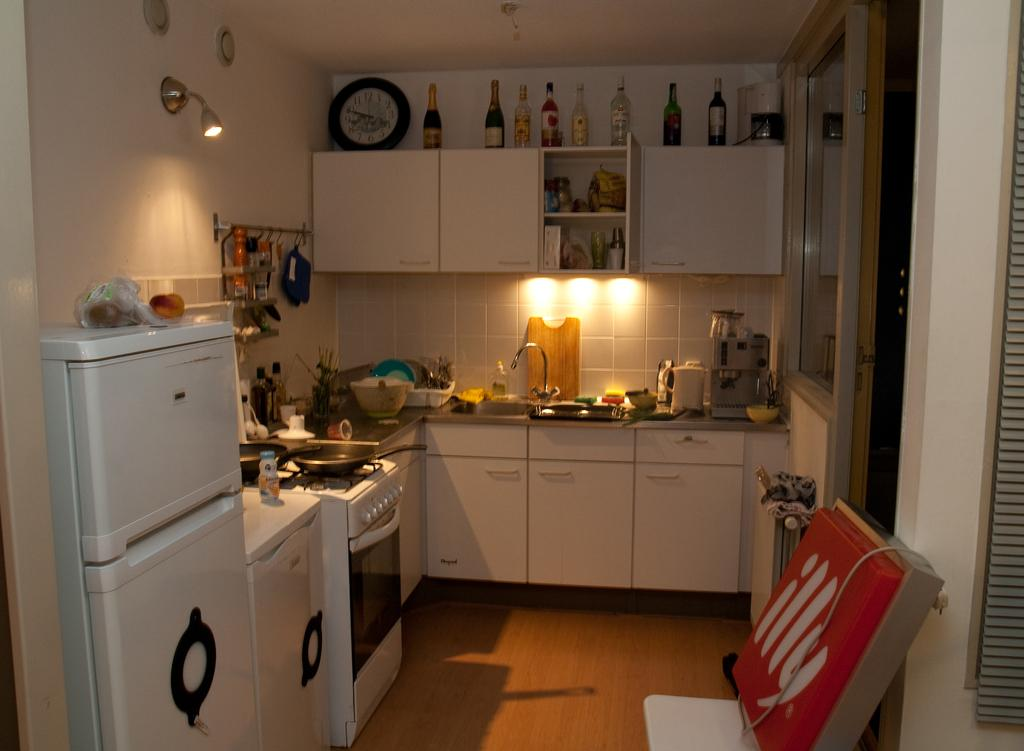cabinet_door: (643, 156, 779, 270), (316, 156, 440, 270), (638, 462, 744, 588), (423, 460, 529, 585), (532, 462, 635, 589), (440, 156, 537, 262)
handle: (113, 483, 241, 548), (646, 467, 684, 489), (398, 255, 434, 274), (650, 253, 688, 270), (540, 468, 577, 484), (482, 467, 518, 482), (502, 256, 534, 270)
